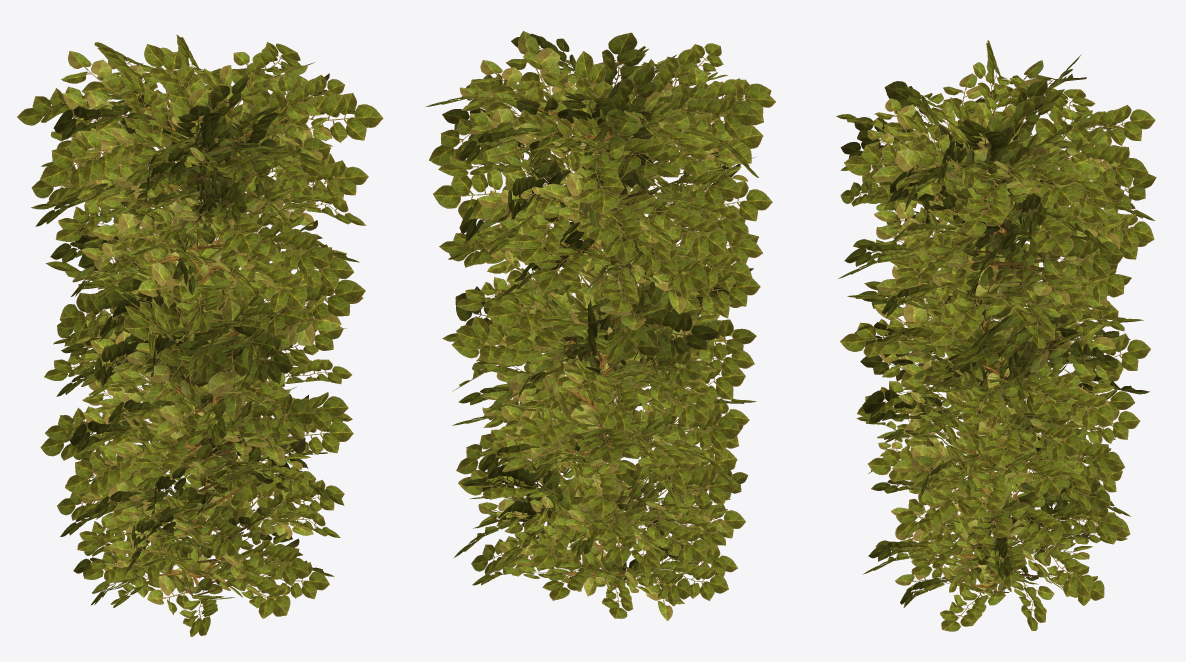
The model's file is BushCylinderTall.fbx.
3 views of the same model, side by side, from view 1: azimuth 30°, elevation 25°; view 2: azimuth 150°, elevation 25°; view 3: azimuth 270°, elevation 25° (orthographic). The views are drawn at different scales.
Visible parts, largest first — view 1: BushCylinderTallGreenYellowLOD0; view 2: BushCylinderTallGreenYellowLOD0; view 3: BushCylinderTallGreenYellowLOD0.
Part boxes in pixels (x1=…): BushCylinderTallGreenYellowLOD0: x1=17, y1=34, x2=383, y2=636; BushCylinderTallGreenYellowLOD0: x1=425, y1=31, x2=775, y2=620; BushCylinderTallGreenYellowLOD0: x1=836, y1=40, x2=1156, y2=631.
Size of what is drawn, in the model's own units: 106 by 179 by 104.
Materials: 1 (1 with a texture image).
